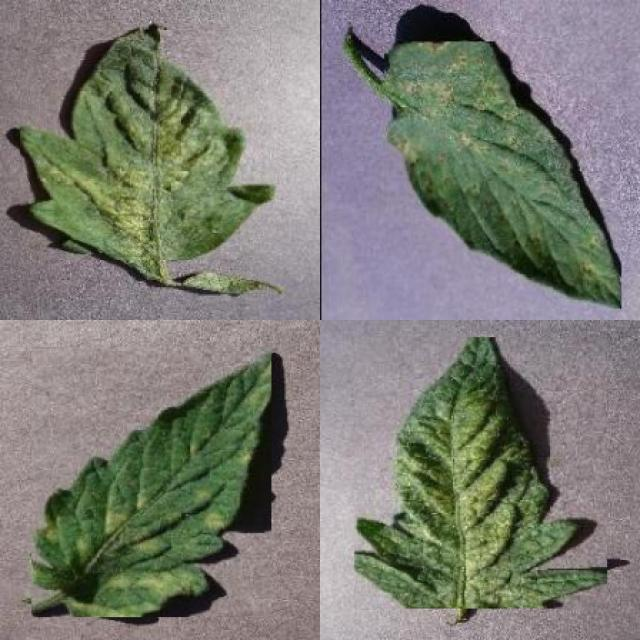Leaf Mold: (32, 347, 271, 617)
Septoria: (384, 42, 622, 308)
Spider Mites: (354, 338, 607, 608), (19, 23, 274, 260)
